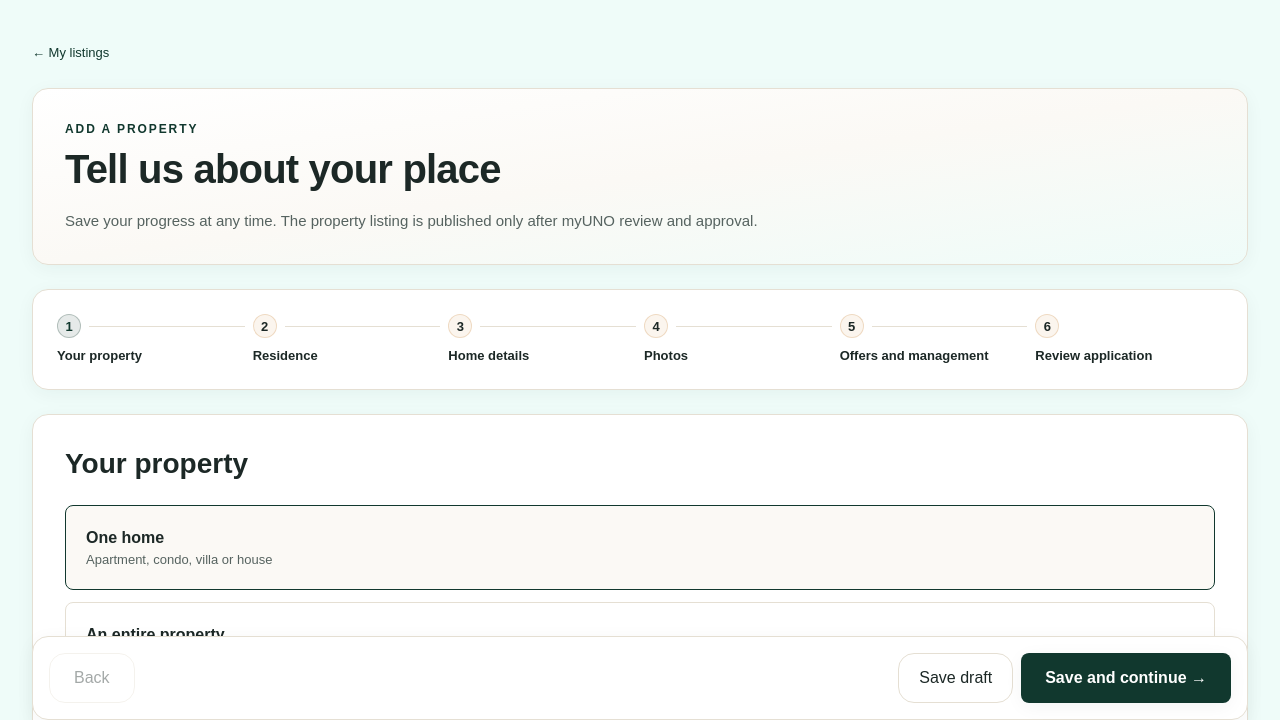
Test: bounded onboarding UI locale without workflow changes › renders shell, steps and preserves draft request in en
Expected: the heading "Tell us about your place" is shown, [65,147,501,191]
Expected: the list named "Property application steps" is shown, [57,314,1223,365]
Click the button "Save and continue →" at coordinates (1126, 678), box [1021,653,1231,703]
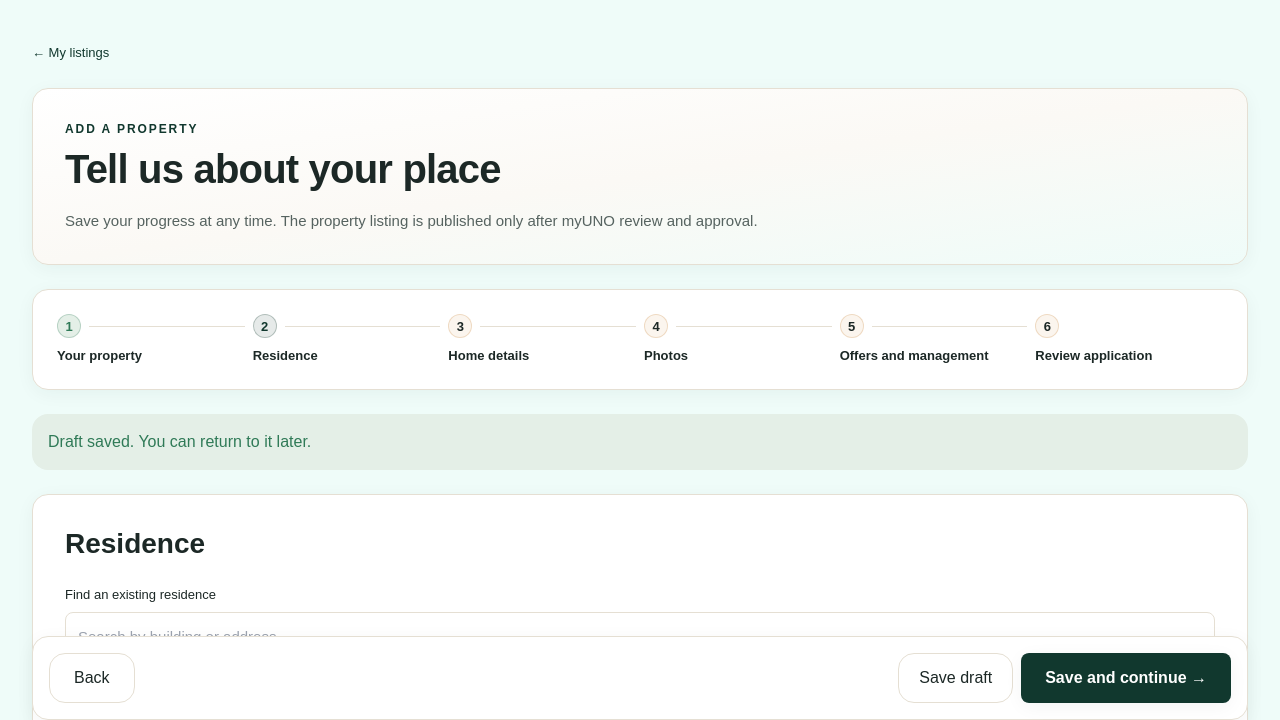
Now the heading "Residence" is shown, box [65,528,205,559]
